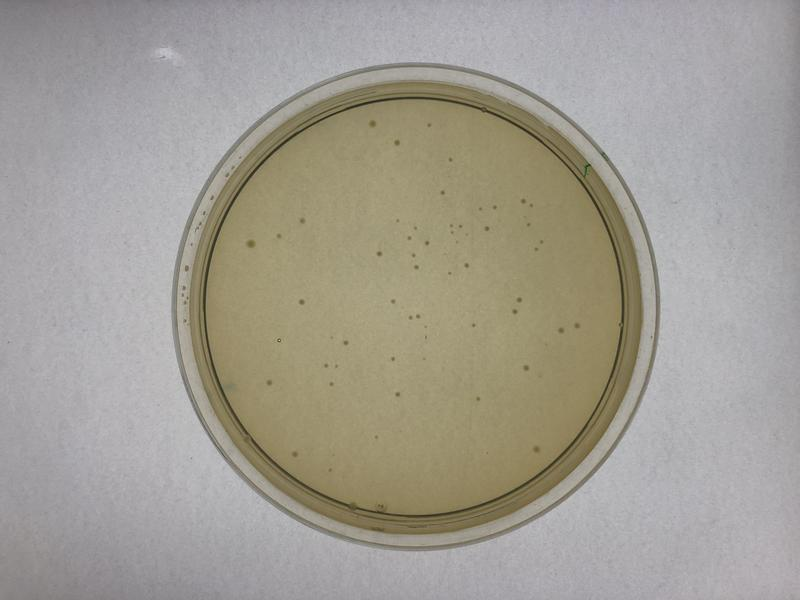colony: (293, 290, 311, 311), (362, 112, 381, 131), (387, 132, 406, 150), (291, 211, 310, 229), (240, 233, 259, 251), (388, 385, 408, 402), (262, 373, 278, 393), (471, 391, 489, 407), (507, 303, 523, 320), (567, 319, 585, 333), (288, 447, 303, 463), (441, 151, 456, 167), (530, 442, 546, 457), (339, 334, 353, 351), (374, 245, 388, 262), (519, 358, 532, 375), (513, 289, 527, 303), (325, 379, 339, 393), (269, 228, 284, 241), (554, 321, 567, 336), (385, 354, 402, 365), (385, 296, 399, 309), (467, 318, 479, 333), (521, 220, 537, 231), (323, 464, 336, 477), (419, 235, 432, 248), (421, 119, 435, 131), (437, 187, 450, 199), (461, 257, 473, 270), (319, 359, 331, 371), (403, 312, 415, 324), (413, 309, 425, 321), (481, 222, 493, 233), (408, 249, 419, 261), (456, 220, 467, 232), (530, 243, 541, 255), (371, 433, 381, 446), (404, 231, 414, 244), (411, 261, 421, 273), (489, 202, 499, 214), (475, 203, 487, 213), (392, 215, 403, 225), (517, 197, 529, 206), (411, 223, 419, 231)
